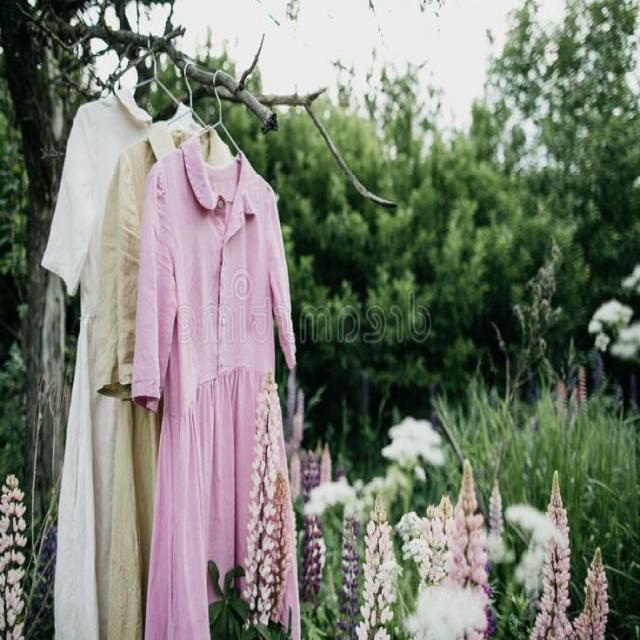clothes: (55, 156, 266, 620)
